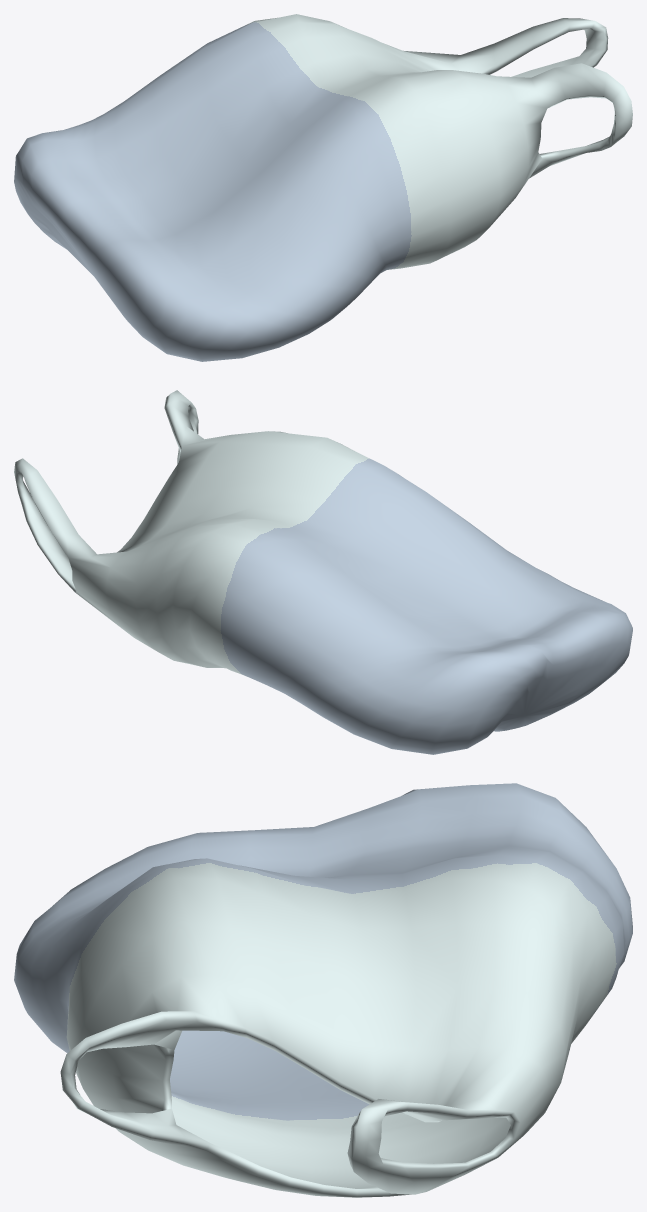
The model's file is bolsaPlastico.fbx.
3 renders of one model, top to bottom at view 1: azimuth 30°, elevation 25°; view 2: azimuth 150°, elevation 25°; view 3: azimuth 270°, elevation 25°, orthographic. The views are drawn at different scales.
Visible parts, largest first — view 1: bolsaPlastico; view 2: bolsaPlastico; view 3: bolsaPlastico.
Part boxes in pixels (x1=…): bolsaPlastico: x1=14, y1=14, x2=632, y2=361; bolsaPlastico: x1=14, y1=390, x2=632, y2=754; bolsaPlastico: x1=14, y1=783, x2=632, y2=1197.
Size of the model in its own units: 84.27 by 30.52 by 54.4.
